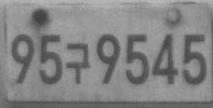4: (152, 32, 178, 85)
5: (182, 33, 207, 85), (125, 34, 150, 85), (38, 34, 63, 84)
9: (9, 33, 35, 85), (95, 32, 120, 84)
구: (65, 42, 90, 85)
